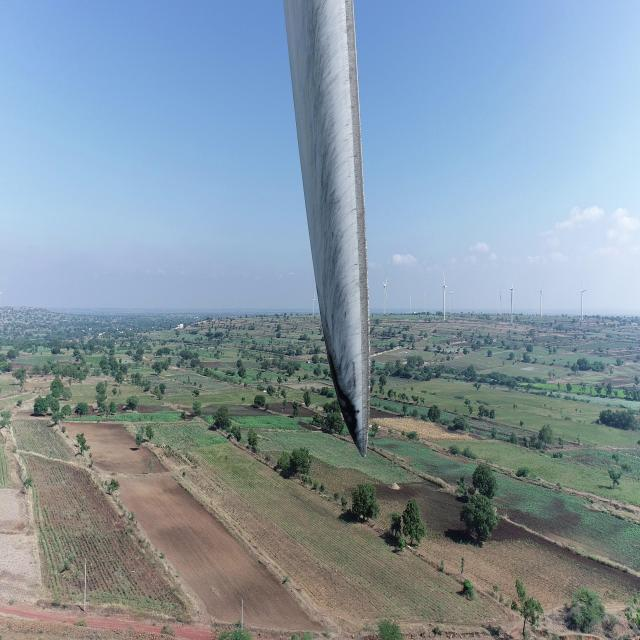Dirt: (284, 0, 370, 455)
Oil LEAKAGE: (324, 346, 360, 446)
Pin Hole: (351, 403, 363, 419)
